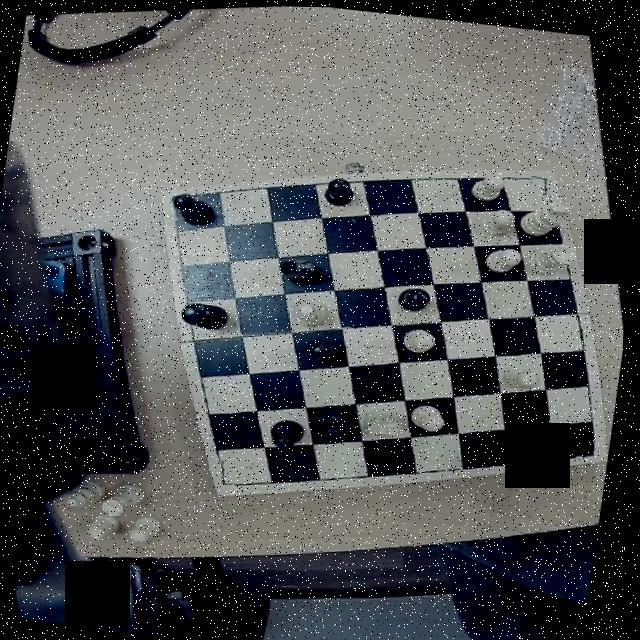chess-table-corners: (213, 456, 257, 496), (162, 185, 202, 222), (574, 429, 612, 464), (524, 164, 562, 196)
